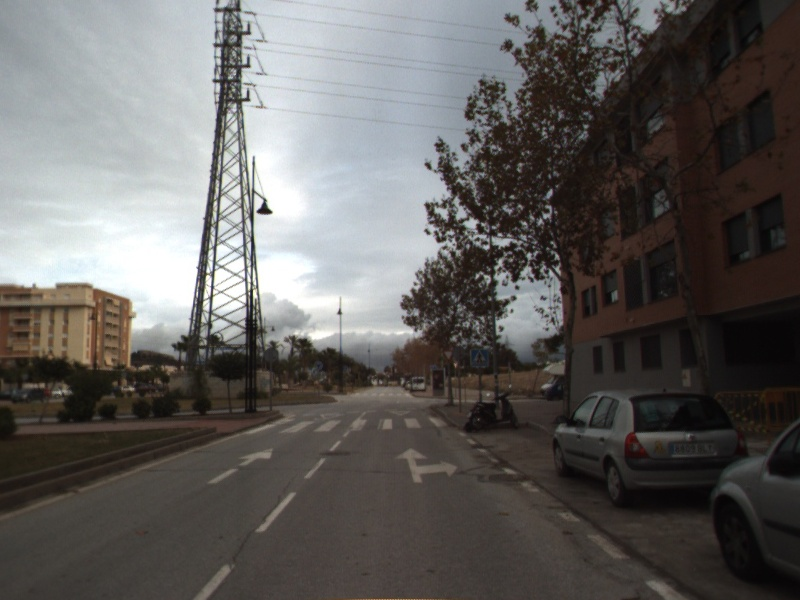STRAIGHT: (205, 446, 275, 486)
STRAIGHT_RIGHT: (393, 446, 460, 485)
